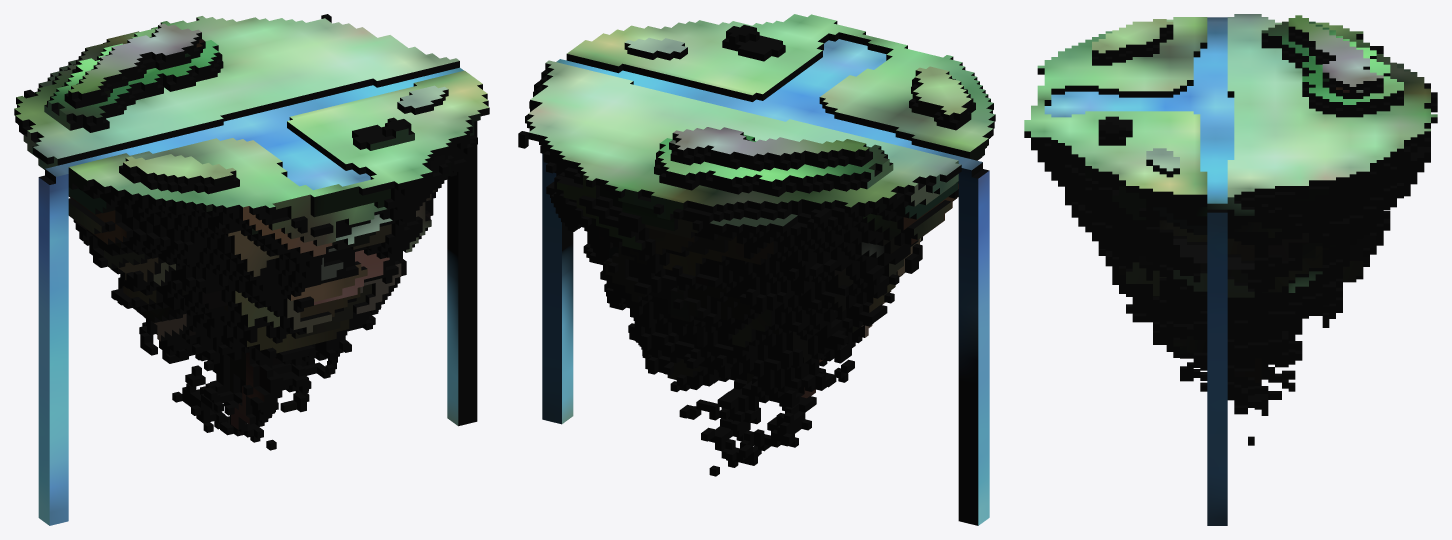
File: island-baked.glb
The picture shows the model from 3 angles, left to right: view 1: azimuth 30°, elevation 25°; view 2: azimuth 150°, elevation 25°; view 3: azimuth 270°, elevation 25°; orthographic projection. The views are drawn at different scales.
Parts seen in each view (by area): view 1: floatingisland.vox; view 2: floatingisland.vox; view 3: floatingisland.vox.
Boxes of the visible parts, left/top/right/bottom form: floatingisland.vox: left=14, top=14, right=489, bottom=525; floatingisland.vox: left=518, top=14, right=995, bottom=525; floatingisland.vox: left=1024, top=14, right=1437, bottom=525.
Size of the model in its own units: 6.7 by 5.7 by 6.1.
Materials: 1 (1 with a texture image).
